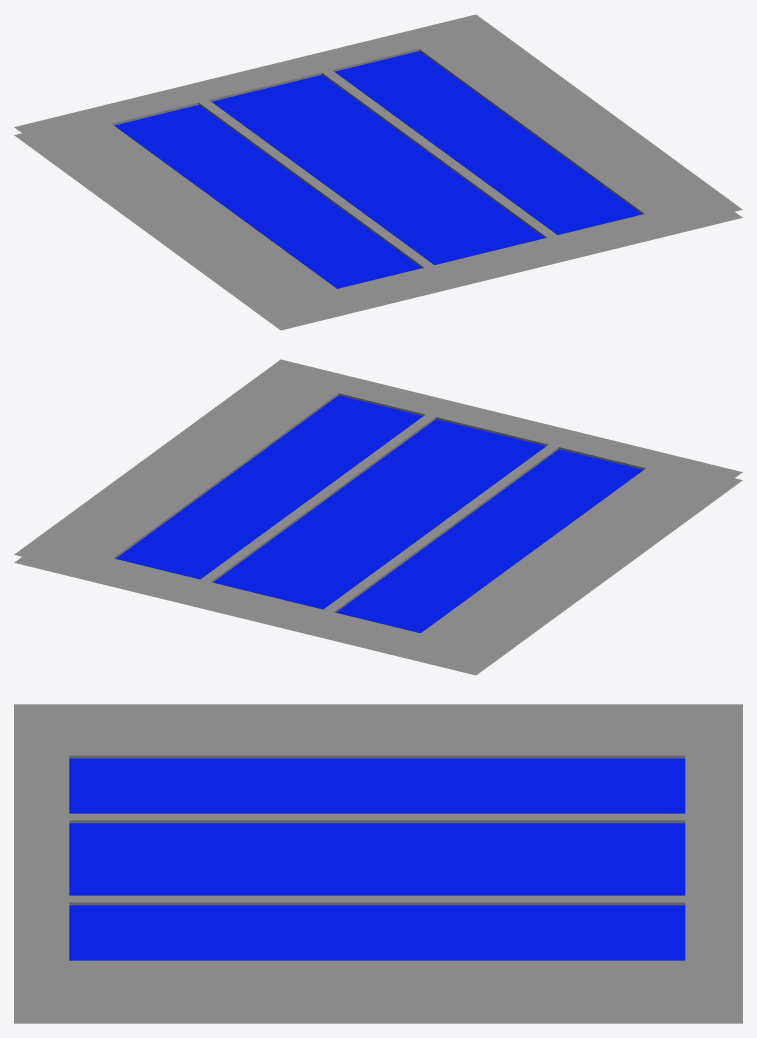
File: Wall_windows.FBX
3 renders of one model, top to bottom at view 1: azimuth 30°, elevation 25°; view 2: azimuth 150°, elevation 25°; view 3: azimuth 270°, elevation 25°, orthographic. The views are drawn at different scales.
Visible parts, largest first — view 1: Box035; view 2: Box035; view 3: Box035.
Boxes of the visible parts, box(x1,y1,x2,y2) form: Box035: box(14, 14, 742, 330); Box035: box(14, 359, 742, 675); Box035: box(14, 704, 742, 1023).
Bounding box in the file's own units: 300 × 5 × 300.
